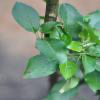Apple leaf: (10, 1, 43, 34), (36, 37, 75, 64), (22, 54, 62, 80), (56, 2, 83, 35), (57, 57, 77, 82), (79, 52, 98, 76)
